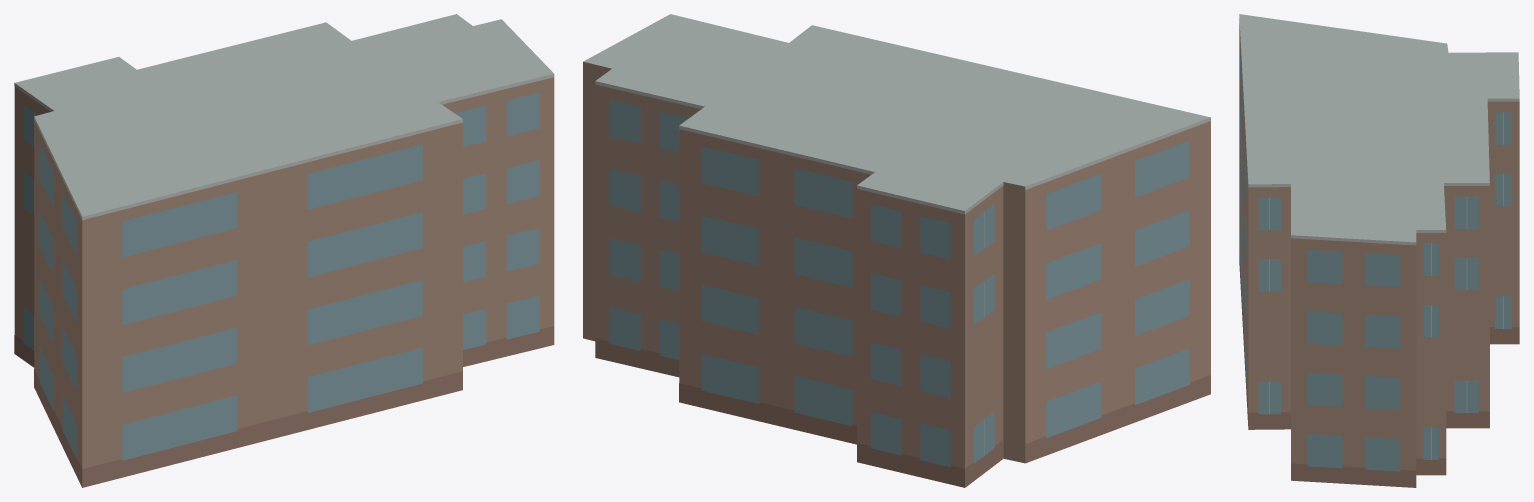
Rendered from survey-upis-32460082.glb.
The picture shows the model from 3 angles, left to right: view 1: azimuth 30°, elevation 25°; view 2: azimuth 150°, elevation 25°; view 3: azimuth 270°, elevation 25°; orthographic projection. The views are drawn at different scales.
Visible parts, largest first — view 1: survey-upis-32460082.tmp; view 2: survey-upis-32460082.tmp; view 3: survey-upis-32460082.tmp.
Part boxes in pixels (box(x1,y1,x2,y2)): survey-upis-32460082.tmp: box(14, 14, 554, 487); survey-upis-32460082.tmp: box(583, 14, 1210, 487); survey-upis-32460082.tmp: box(1239, 14, 1519, 487).
Size of the model in its own units: 38.74 by 19.4 by 20.1.
